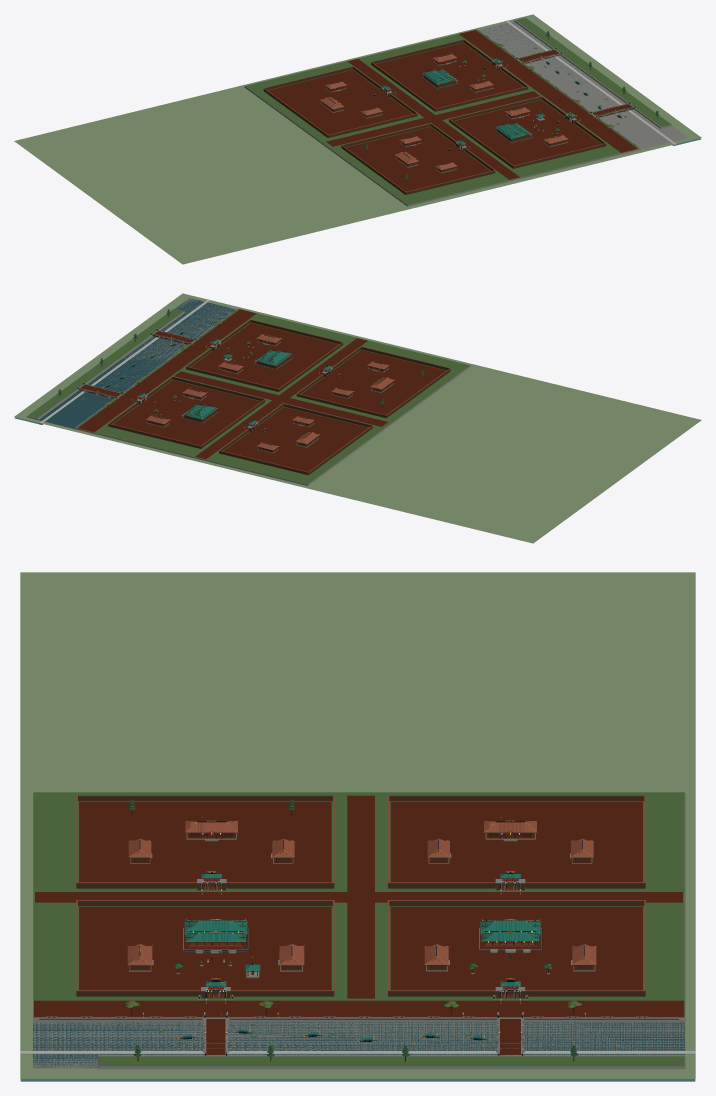
The model's file is T19_kim_thuy_tay_nam.glb.
3 renders of one model, top to bottom at view 1: azimuth 30°, elevation 25°; view 2: azimuth 150°, elevation 25°; view 3: azimuth 270°, elevation 25°, orthographic. The views are drawn at different scales.
Parts seen in each view (by area): view 1: T19_Static_Base, T19_V2_Satellite_Seamless_Base; view 2: T19_Static_Base, T19_V2_Satellite_Seamless_Base; view 3: T19_Static_Base, T19_V2_Satellite_Seamless_Base, WestSouth_NhaSo_MainHall, WestNorth_PhuDe_MainHall.
Boxes of the visible parts, bbox=[...] form: T19_Static_Base: bbox=[244, 17, 688, 206]; T19_V2_Satellite_Seamless_Base: bbox=[14, 14, 701, 264]; T19_Static_Base: bbox=[27, 298, 470, 485]; T19_V2_Satellite_Seamless_Base: bbox=[14, 293, 701, 543]; T19_Static_Base: bbox=[33, 792, 685, 1069]; T19_V2_Satellite_Seamless_Base: bbox=[20, 572, 695, 1081]; WestSouth_NhaSo_MainHall: bbox=[185, 820, 238, 841]; WestNorth_PhuDe_MainHall: bbox=[484, 821, 536, 841].
Bounding box in the file's own units: 570 × 13.03 × 321.
24 materials, 4 textured.
